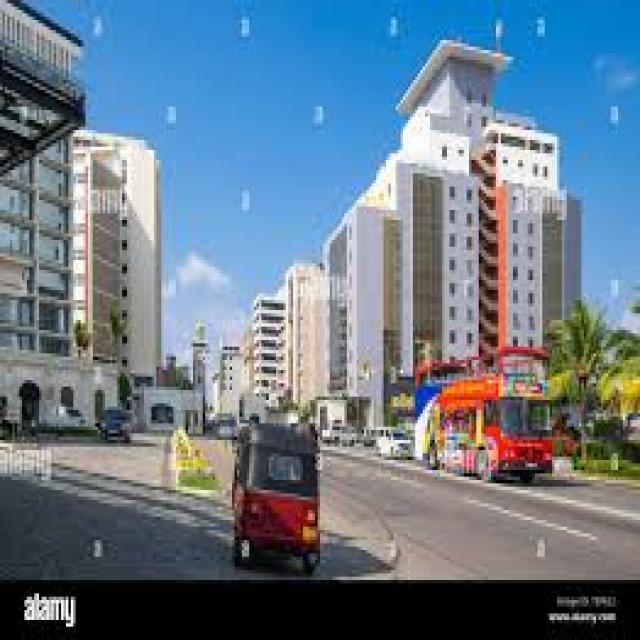bus: (406, 346, 578, 500)
tuktuk: (212, 411, 354, 607)
